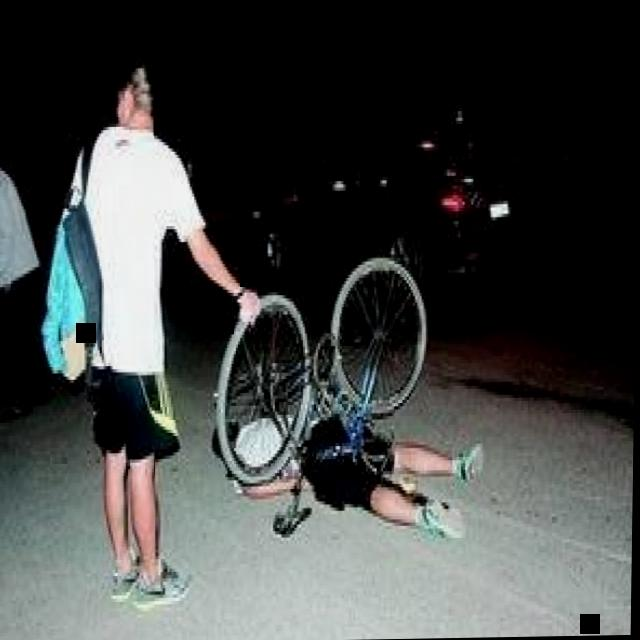Fall-Detected: (236, 375, 491, 560)
